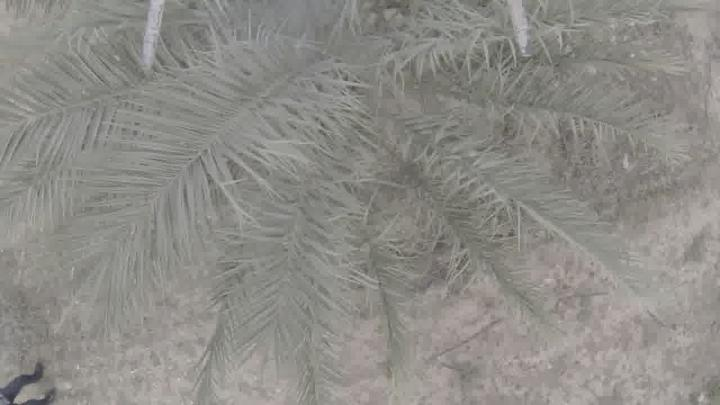Date-Palm-Crown: (146, 0, 534, 320)
